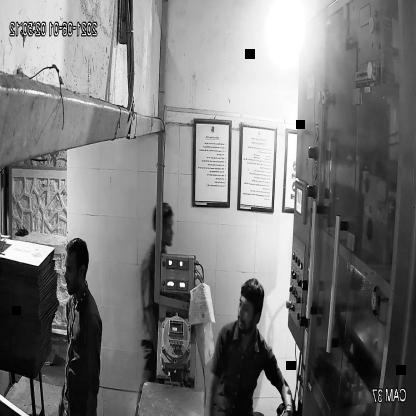no_goggles: (233, 298, 268, 320), (61, 261, 88, 281)
